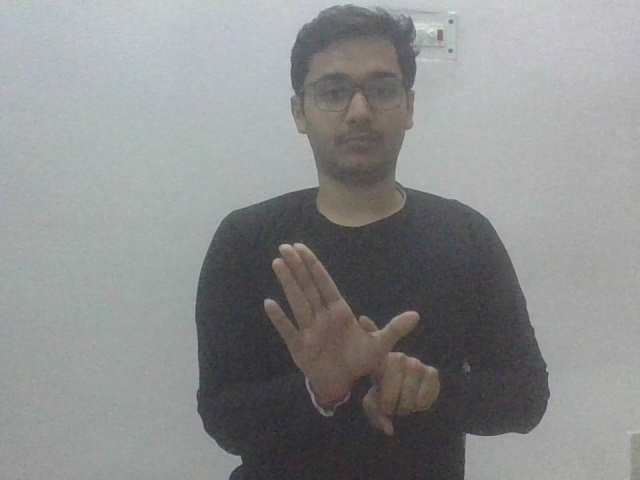Y: (262, 240, 441, 436)
